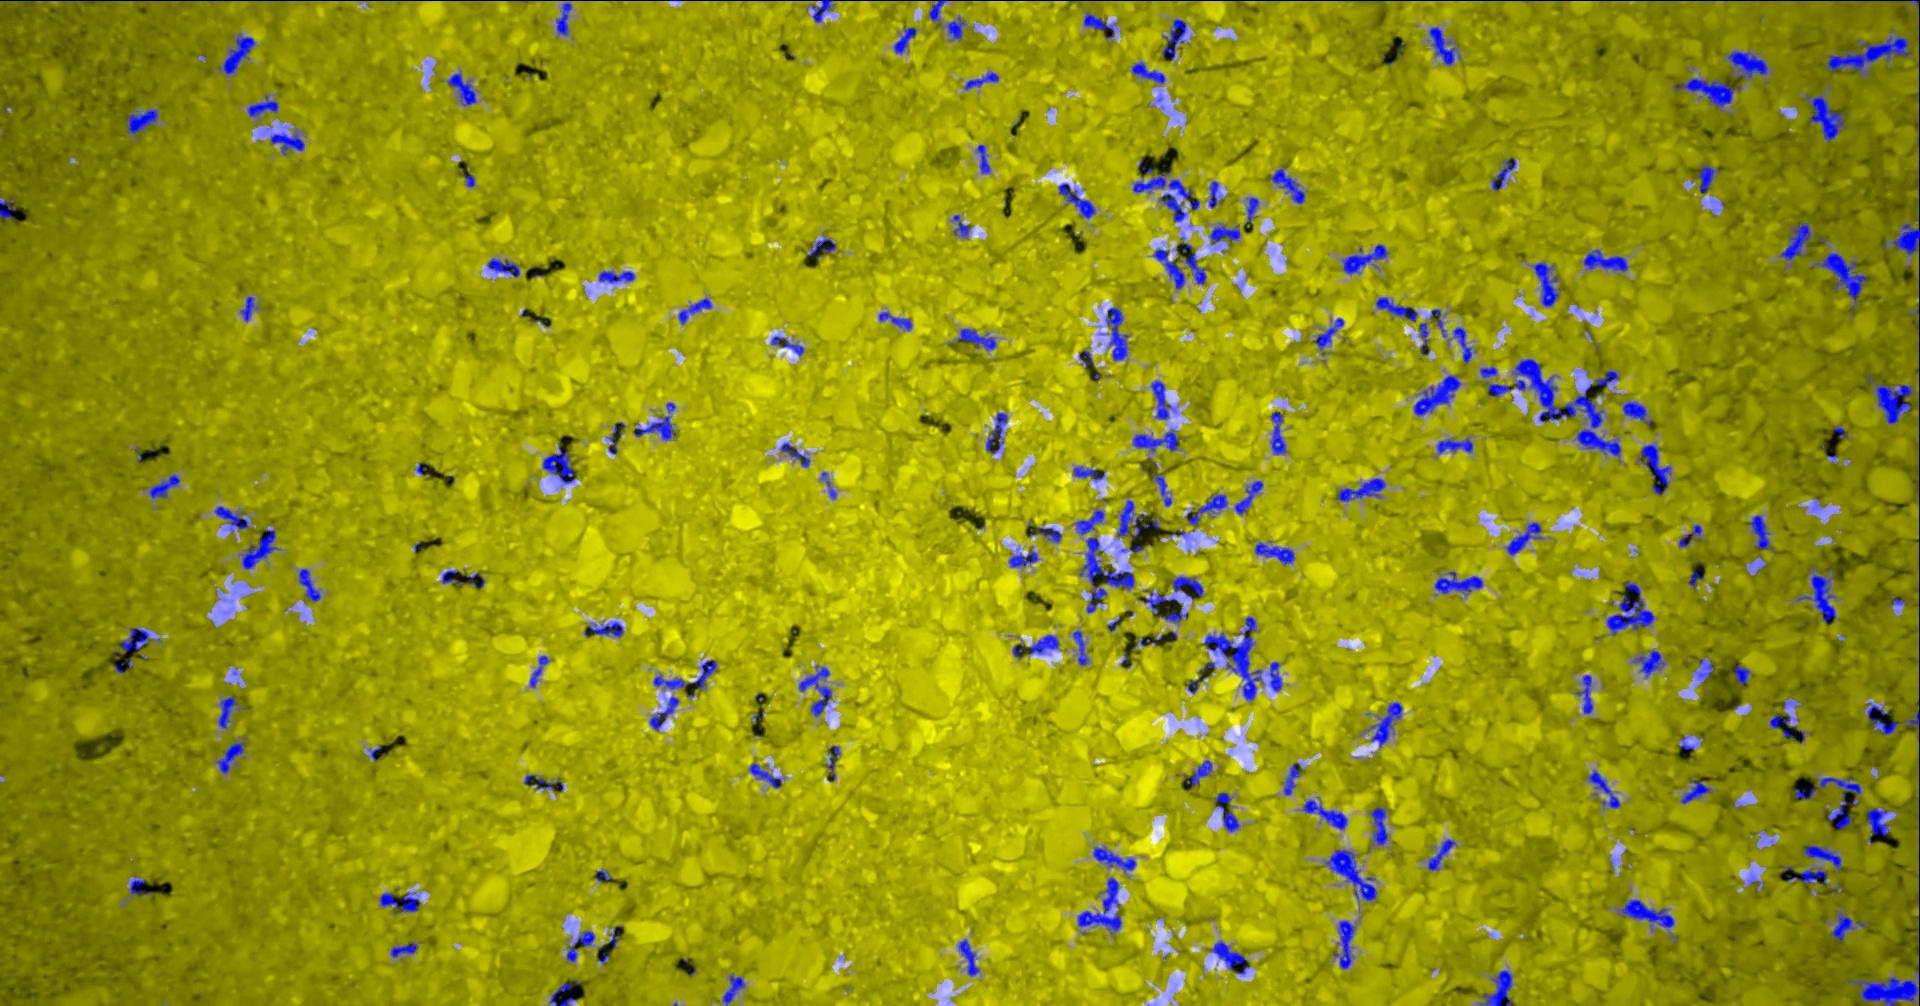ant: (1134, 169, 1201, 210), (1815, 251, 1868, 302), (1327, 848, 1378, 901), (1608, 580, 1656, 634), (1079, 876, 1123, 934), (1820, 776, 1863, 829), (1798, 565, 1837, 622), (1675, 77, 1742, 108), (1804, 95, 1848, 141), (1415, 375, 1462, 415), (800, 666, 833, 716), (1119, 499, 1161, 539), (635, 401, 677, 439), (1641, 445, 1672, 494), (1622, 899, 1676, 927), (1877, 384, 1914, 424), (243, 528, 279, 569), (1893, 199, 1920, 255), (1371, 702, 1404, 747), (1343, 244, 1390, 274), (1145, 589, 1189, 622), (220, 36, 257, 74), (1304, 799, 1349, 829), (1060, 183, 1097, 218), (1782, 222, 1816, 260), (1211, 940, 1251, 973), (1187, 493, 1228, 525), (1430, 25, 1462, 65), (1156, 248, 1186, 288), (1271, 168, 1305, 203), (1534, 260, 1561, 306), (543, 446, 577, 483), (1589, 770, 1622, 807), (1107, 307, 1130, 359), (1509, 522, 1544, 555), (1481, 970, 1514, 1005), (1832, 911, 1869, 941), (1338, 478, 1387, 500), (1730, 50, 1769, 77), (1377, 296, 1418, 321), (1095, 846, 1137, 871), (1436, 572, 1484, 593), (1335, 920, 1356, 968), (1804, 845, 1843, 871), (1164, 18, 1189, 60), (651, 696, 681, 730), (1585, 249, 1630, 271), (1750, 514, 1777, 551), (1256, 540, 1297, 564), (450, 71, 477, 105), (987, 412, 1010, 453), (1236, 480, 1263, 514), (1135, 429, 1178, 451), (1316, 318, 1345, 349), (1869, 702, 1898, 734), (1217, 793, 1241, 831), (957, 328, 997, 351), (1152, 380, 1175, 419), (568, 930, 596, 962), (218, 741, 245, 774), (381, 892, 422, 913), (1429, 840, 1457, 870), (1084, 11, 1116, 38), (681, 297, 712, 324), (1634, 650, 1666, 677), (750, 762, 783, 788), (960, 937, 982, 976), (1493, 158, 1517, 191), (272, 131, 306, 154), (1161, 193, 1189, 221), (691, 659, 717, 688), (150, 474, 182, 498), (1173, 575, 1205, 600), (216, 506, 249, 528), (300, 568, 323, 601), (128, 109, 159, 133), (1624, 401, 1655, 426), (781, 442, 811, 466), (551, 981, 582, 1005), (1454, 326, 1473, 363), (526, 774, 565, 791), (1576, 674, 1594, 713), (1371, 807, 1389, 845), (1077, 509, 1105, 533), (123, 627, 151, 652), (1189, 760, 1213, 788), (1683, 779, 1710, 803), (1133, 62, 1166, 83), (1153, 473, 1173, 506), (1187, 253, 1209, 283), (724, 974, 745, 1005), (1698, 164, 1721, 192), (1272, 412, 1288, 453), (880, 311, 913, 330), (249, 95, 279, 116), (1030, 634, 1060, 654), (1437, 437, 1474, 453), (489, 257, 521, 276), (773, 335, 805, 354), (531, 655, 550, 687), (1868, 807, 1890, 835), (585, 621, 625, 636), (1211, 224, 1241, 244), (965, 72, 1001, 89), (220, 695, 237, 728), (809, 0, 836, 22), (895, 27, 917, 53), (809, 238, 837, 258), (1285, 762, 1303, 794), (1771, 714, 1796, 737), (1074, 630, 1090, 666), (610, 422, 626, 453), (557, 3, 573, 36), (1010, 550, 1040, 567), (1680, 525, 1703, 546), (1031, 527, 1063, 542), (1431, 307, 1448, 337), (930, 0, 951, 22), (457, 572, 486, 587), (655, 674, 687, 688), (954, 213, 971, 238), (1244, 197, 1260, 225), (1074, 466, 1105, 480), (1801, 868, 1829, 883), (599, 271, 636, 282), (828, 746, 841, 779), (978, 144, 992, 173), (949, 17, 966, 39), (823, 471, 838, 498), (1906, 699, 1920, 727), (1270, 661, 1283, 691), (1597, 370, 1620, 386), (1699, 658, 1716, 681), (1210, 180, 1224, 207), (392, 942, 418, 956), (1, 196, 17, 218), (608, 925, 623, 948), (1735, 664, 1752, 683), (243, 296, 257, 320), (131, 879, 151, 895), (1420, 323, 1430, 354), (463, 165, 476, 187), (1490, 384, 1511, 396), (1177, 236, 1194, 253), (1796, 786, 1816, 799), (1079, 351, 1095, 366), (116, 659, 133, 672), (1690, 572, 1705, 586), (1481, 366, 1498, 377), (443, 570, 458, 583), (597, 870, 612, 882), (1015, 643, 1025, 657)
